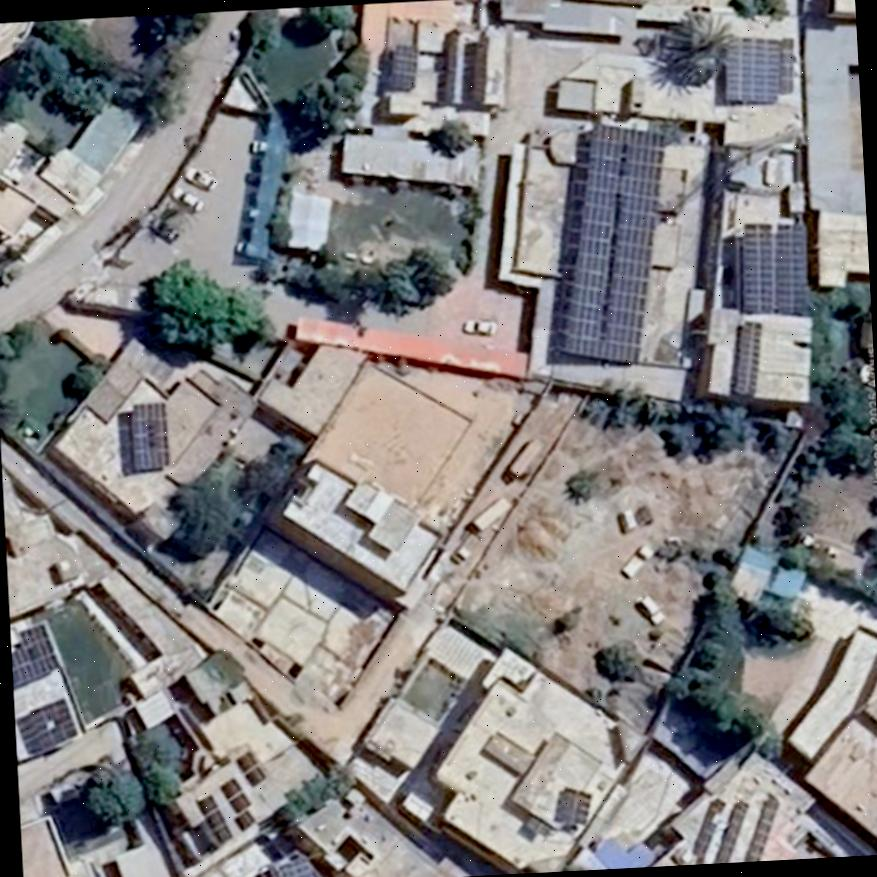Solarpanel: (558, 120, 665, 365), (742, 219, 806, 314), (731, 36, 790, 98), (128, 401, 173, 468), (13, 613, 54, 683), (19, 701, 72, 753), (727, 319, 761, 396), (691, 797, 725, 861), (743, 800, 778, 862), (713, 801, 749, 861), (554, 784, 589, 829), (388, 42, 419, 87), (274, 859, 316, 877)
